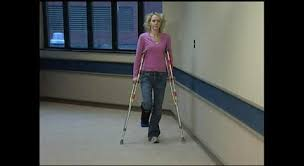crutches: (118, 11, 185, 146)
